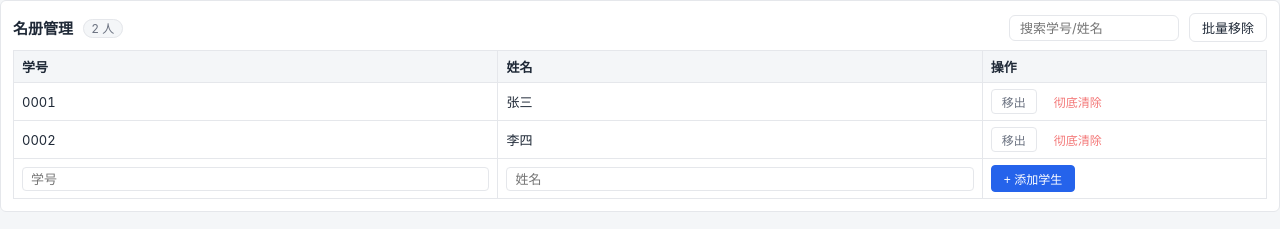
RosterPanel 行内优先交互 › 批量移除（勾选模式，软移出） › 全选框：全选 → (2)；取消一个 → 半选态 → 再点全选框补齐
Click the button with class "batch-remove": (1228, 28) x1=1189 y1=13 x2=1267 y2=42
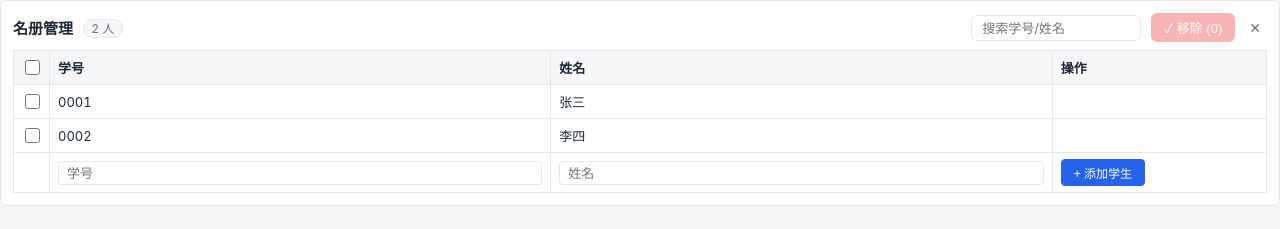
Click the checkbox with class "check-all": (32, 68) x1=24 y1=60 x2=40 y2=75
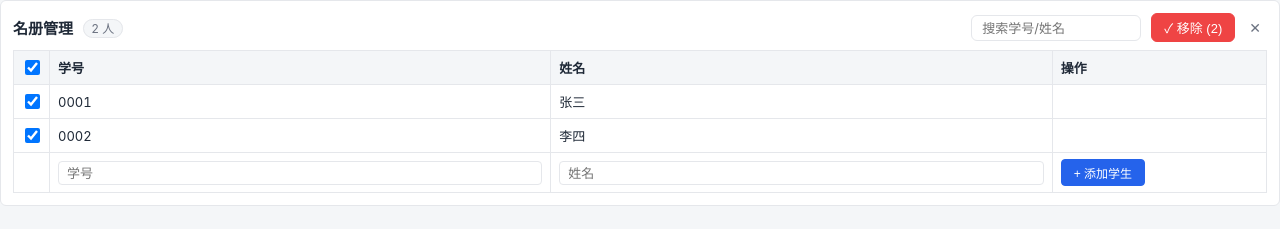
expect the button with class "batch-remove-confirm" shows "(2)": met, box x1=1151 y1=13 x2=1235 y2=42
Click the checkbox with class "check-one" next to "0001": (32, 102) x1=24 y1=94 x2=40 y2=109
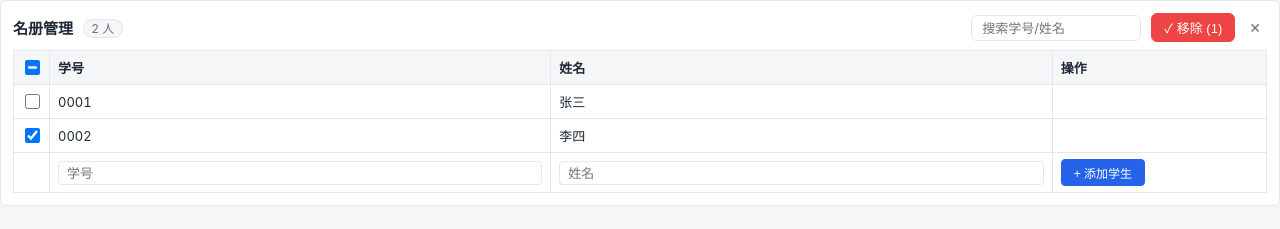
expect the button with class "batch-remove-confirm" shows "(1)": met, box x1=1151 y1=13 x2=1235 y2=42
Click the checkbox with class "check-all": (32, 68) x1=24 y1=60 x2=40 y2=75
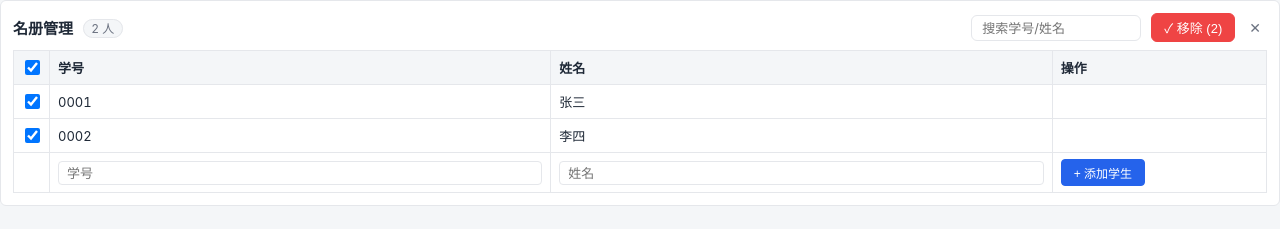
expect the button with class "batch-remove-confirm" shows "(2)": met, box x1=1151 y1=13 x2=1235 y2=42
